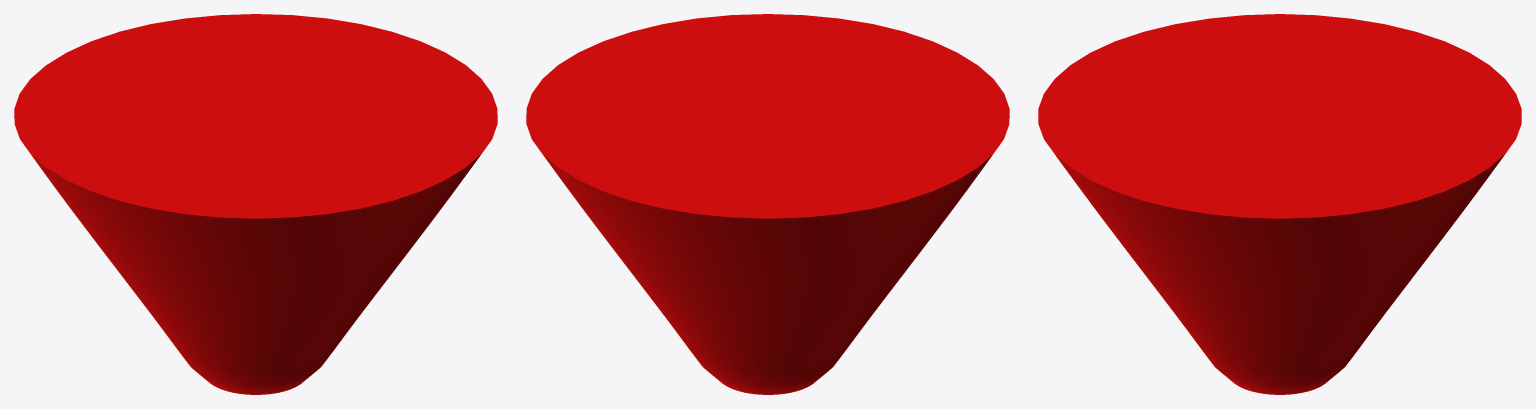
The model's file is Liquid.fbx.
3 views of the same model, side by side, from view 1: azimuth 30°, elevation 25°; view 2: azimuth 150°, elevation 25°; view 3: azimuth 270°, elevation 25° (orthographic).
Parts seen in each view (by area): view 1: Liquid2; view 2: Liquid2; view 3: Liquid2.
Part boxes in pixels (x1,y1,x2,y2): Liquid2: (14,14,497,394); Liquid2: (526,14,1009,394); Liquid2: (1038,14,1521,394).
Size of the model in its own units: 2.49 by 1.49 by 2.48.
